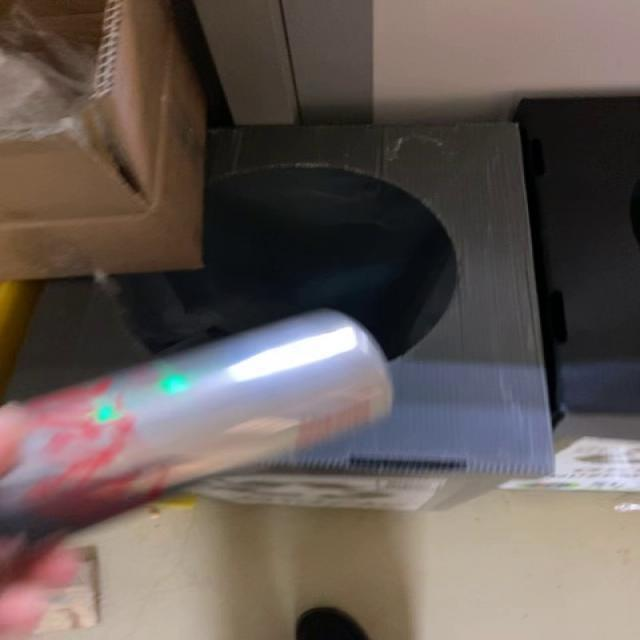Bin: (15, 123, 553, 476)
Metal: (1, 310, 392, 584)
